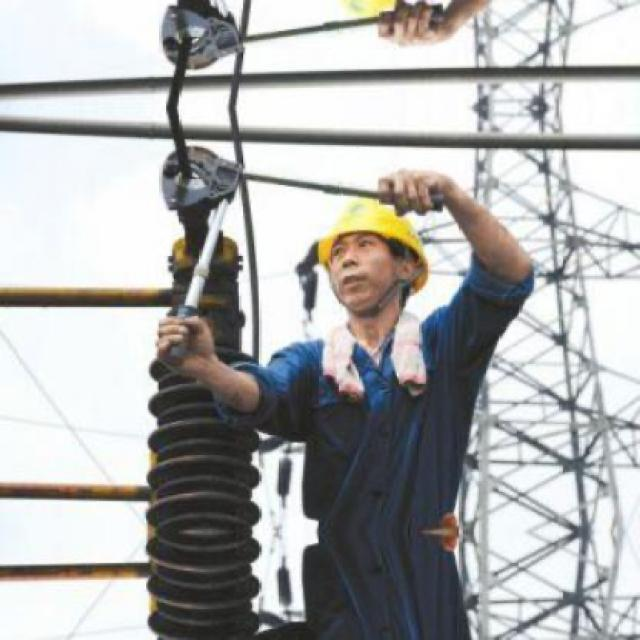helmet: (302, 194, 432, 318)
